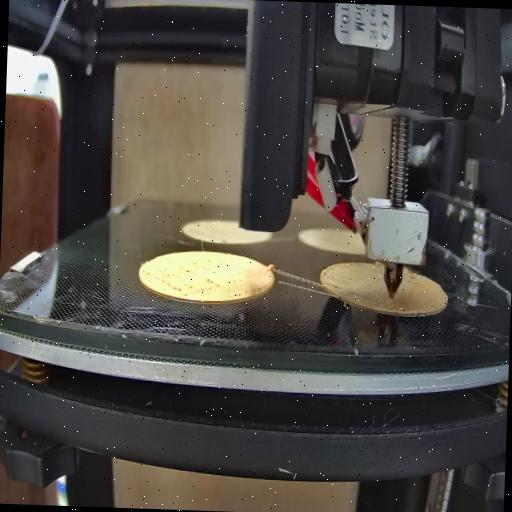under_extrusion: (144, 269, 261, 296), (396, 290, 442, 315), (321, 276, 366, 297)
